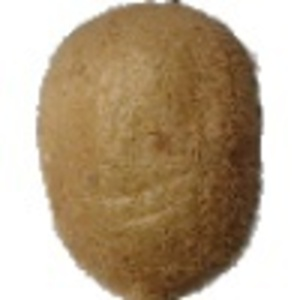kiwi: (36, 1, 264, 300)
